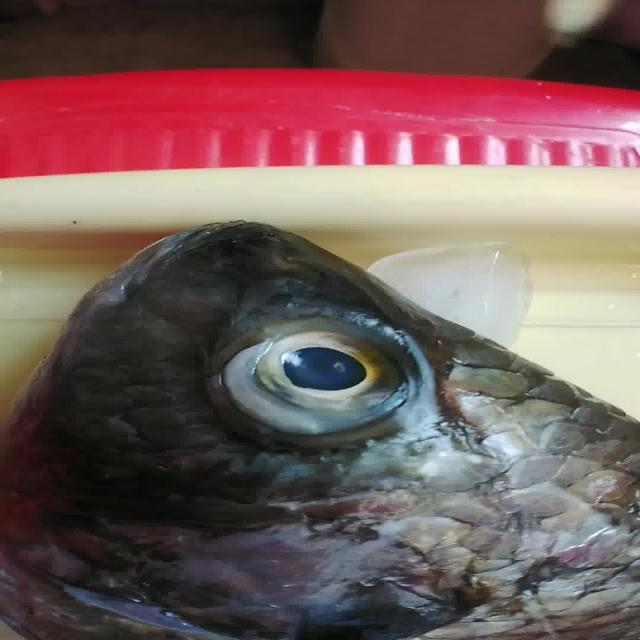Fresh: (200, 300, 438, 449)
